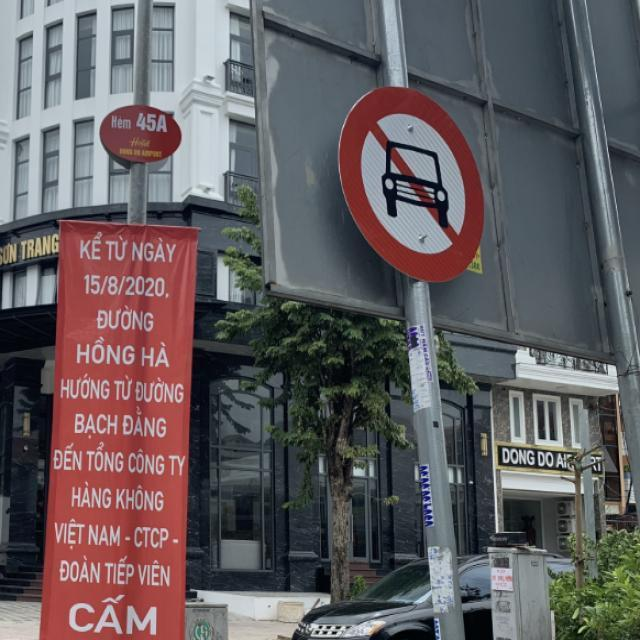103a-cam-oto: (334, 84, 484, 284)
